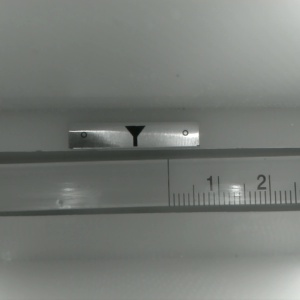1: (205, 176, 211, 190)
2: (256, 175, 266, 190)
finger: (124, 126, 144, 145)
